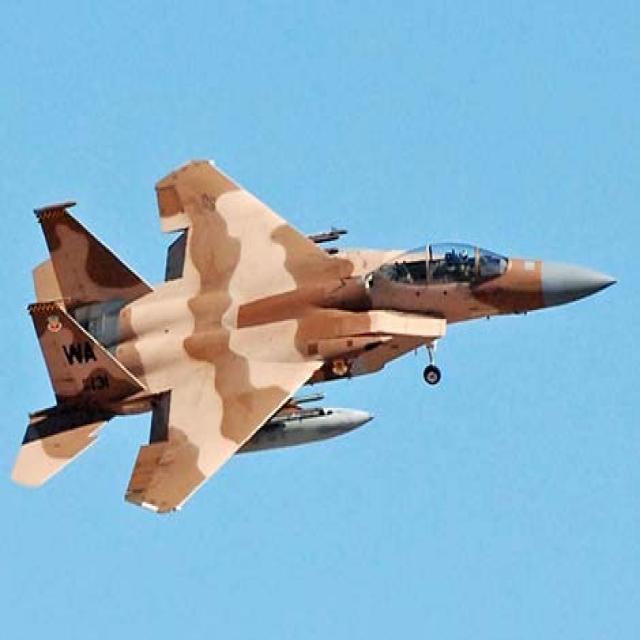F15: (0, 111, 640, 522)
